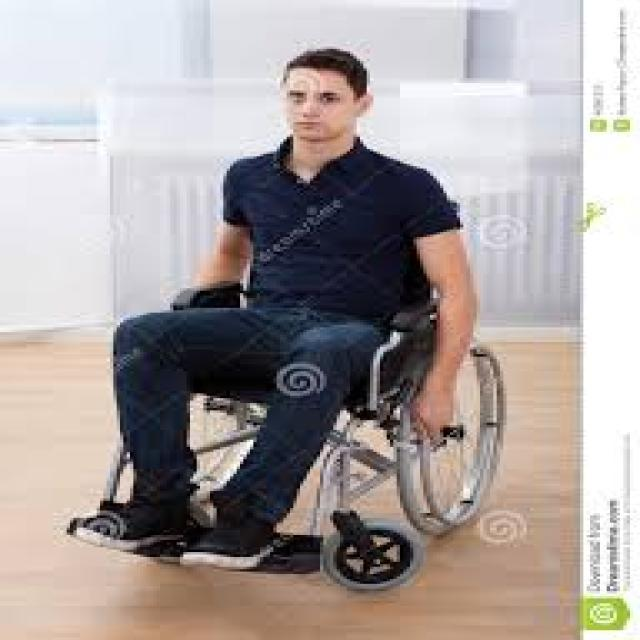wheelchairs: (60, 198, 513, 596)
